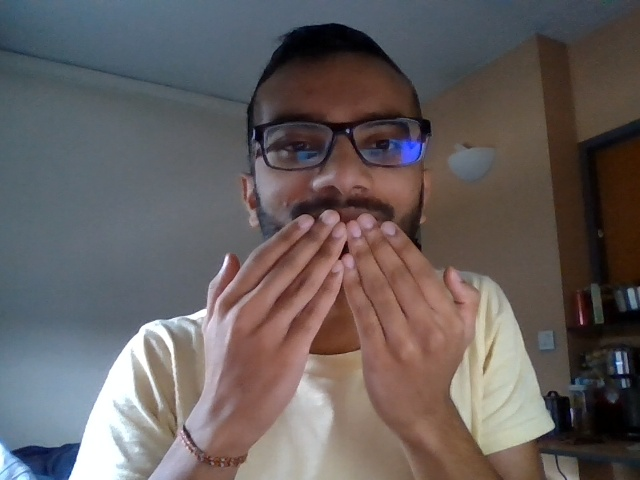Thanks: (176, 204, 492, 426)
